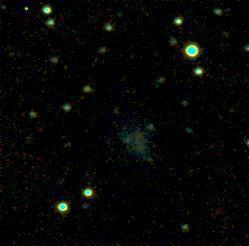star: (7, 0, 37, 30)
